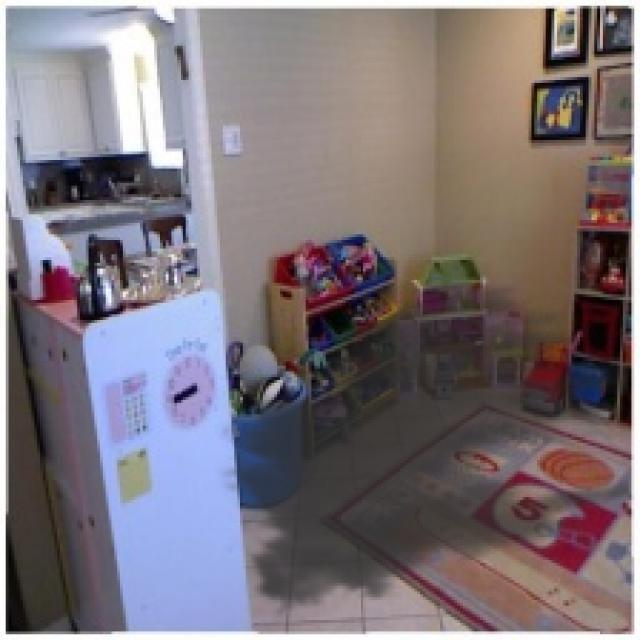Smoke: (214, 266, 629, 626)
